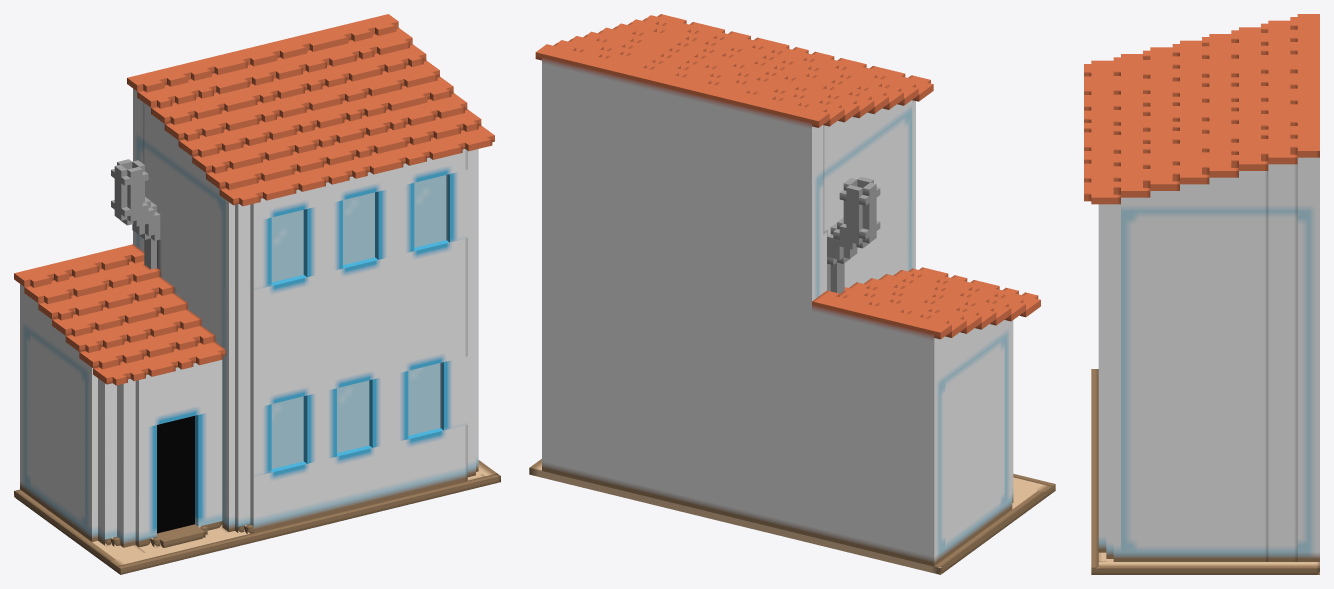
The model's file is PlayerHome1.obj.
3 renders of one model, left to right at view 1: azimuth 30°, elevation 25°; view 2: azimuth 150°, elevation 25°; view 3: azimuth 270°, elevation 25°, orthographic. The views are drawn at different scales.
Visible parts, largest first — view 1: Model; view 2: Model; view 3: Model.
Part boxes in pixels (x1,y1,x2,y2): Model: [14, 14, 500, 574]; Model: [529, 14, 1055, 574]; Model: [1084, 14, 1319, 574].
Size of the model in its own units: 32 by 31.5 by 16.
1 material, 1 textured.
